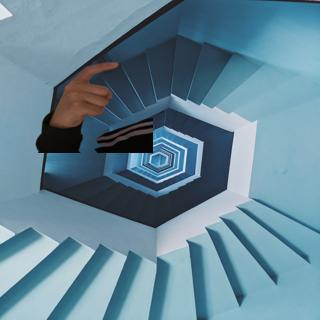WHY: (47, 54, 123, 129)
